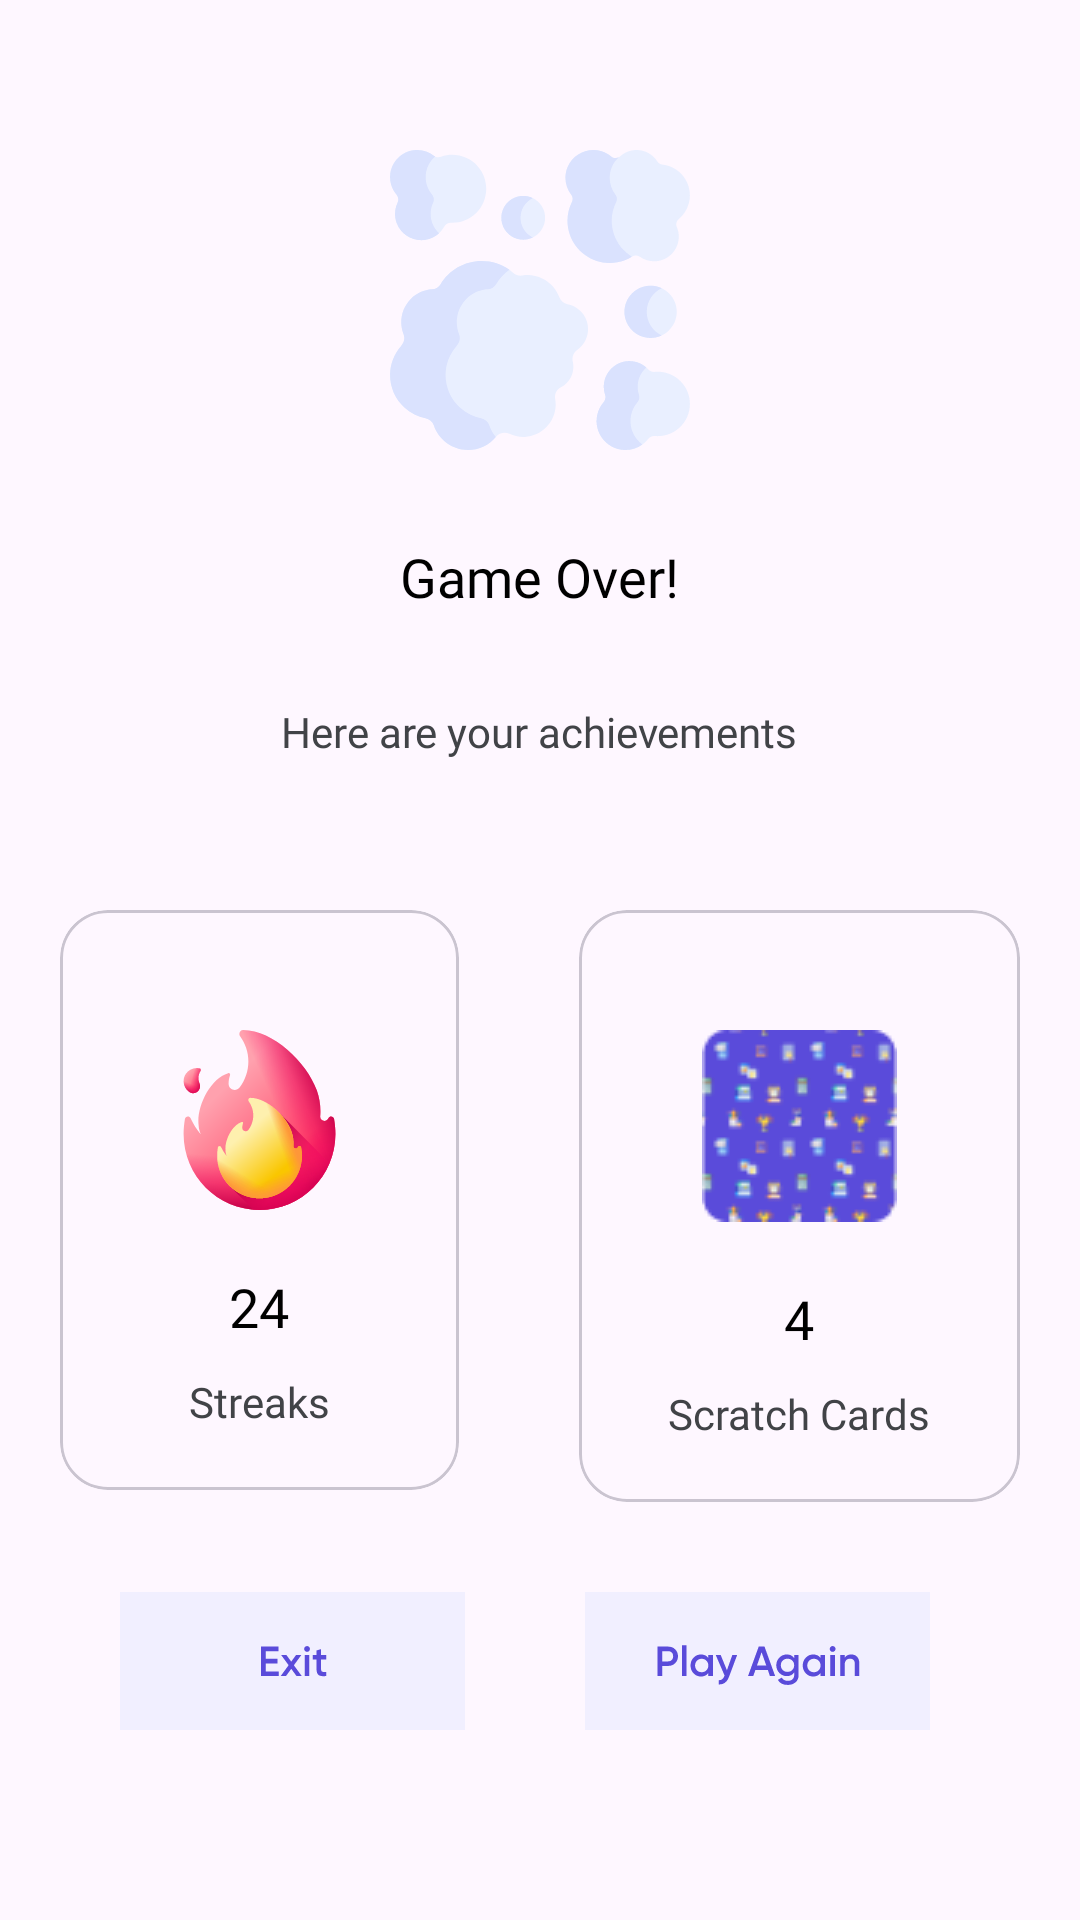

Icon bounding boxes for this 1080px×1920px phone screenshot, format detection(x1, y1, x2, y2):
scratch pattern: detection(702, 1030, 897, 1222)
streak logic: detection(183, 1030, 336, 1210)
